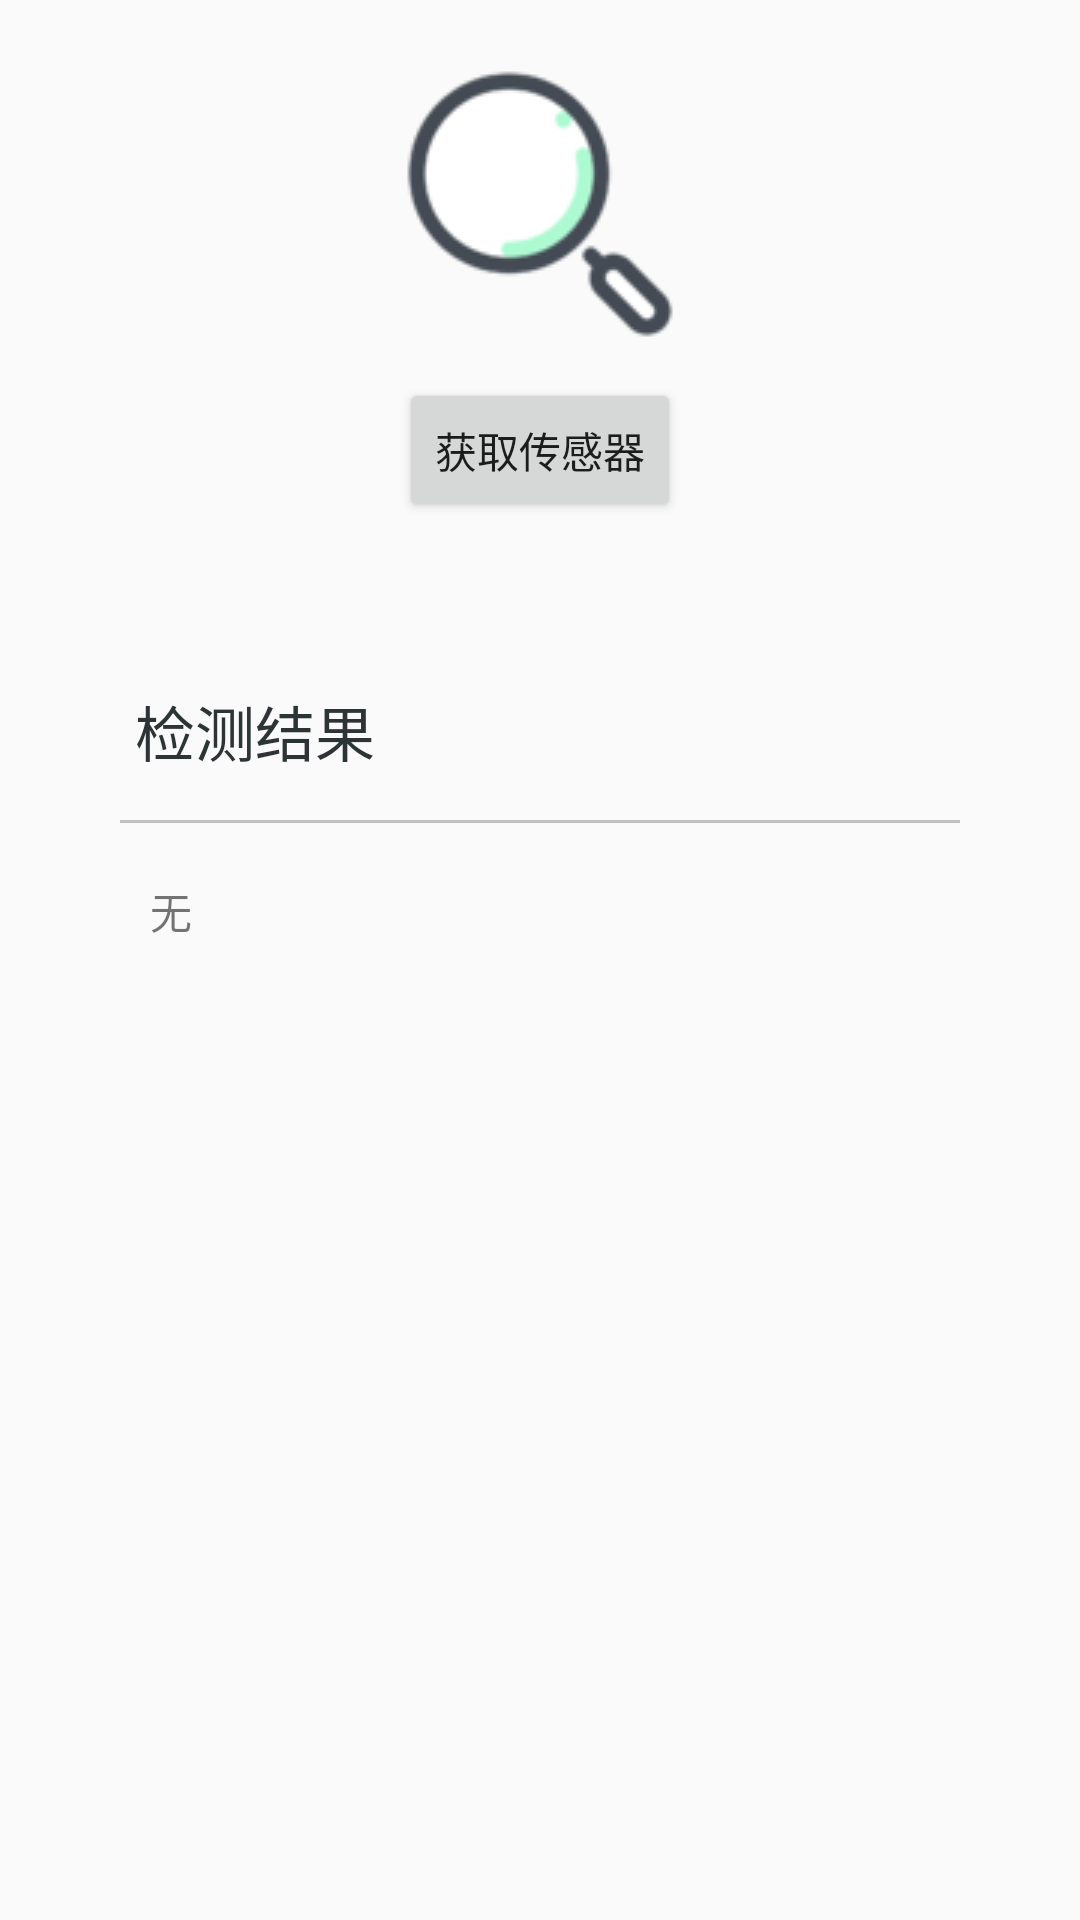

Icon click points for this 1080 × 1920 phone screenshot, format (x,y):
search: (540,204)
